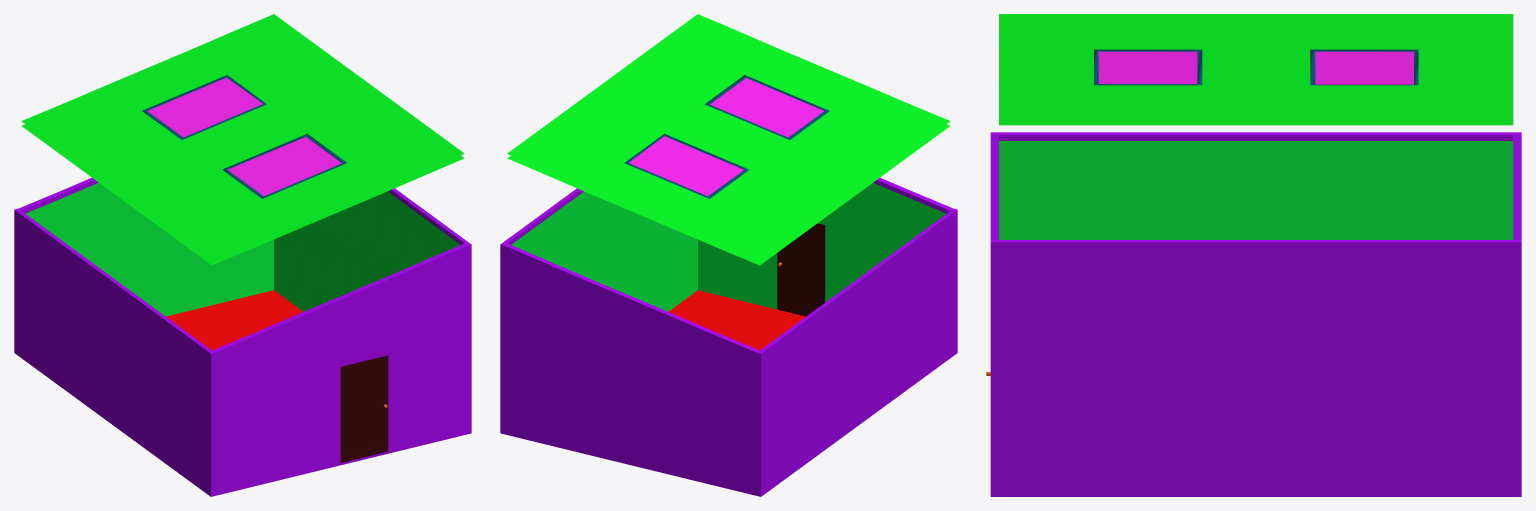
The model's file is RoomShell.FBX.
3 views of the same model, side by side, from view 1: azimuth 30°, elevation 25°; view 2: azimuth 150°, elevation 25°; view 3: azimuth 270°, elevation 25° (orthographic). The views are drawn at different scales.
Visible parts, largest first — view 1: RoomShell, Roof; view 2: RoomShell, Roof; view 3: RoomShell, Roof.
Part boxes in pixels (<box>): RoomShell: <box>14,178,471,496</box>; Roof: <box>21,14,464,265</box>; RoomShell: <box>500,177,957,496</box>; Roof: <box>507,14,950,265</box>; RoomShell: <box>986,132,1521,496</box>; Roof: <box>999,14,1513,125</box>.
Bounding box in the file's own units: 118 × 120 × 156.
